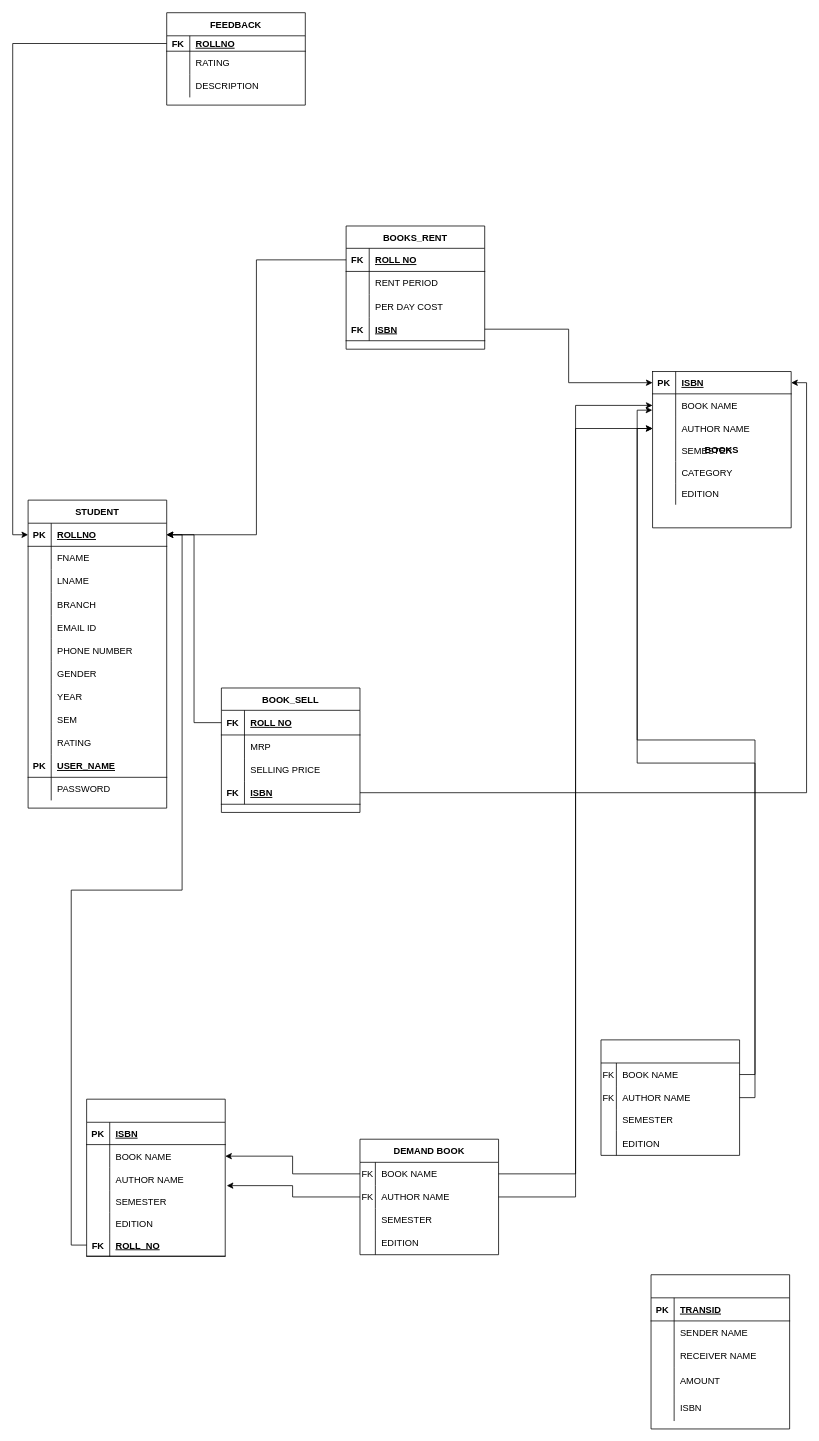
Image size: 819x1441. Some labels were removed from this diagram. Each missing label, with the box of its shape:
BUY_BOOK: (600, 1039, 740, 1155)
EXCHANGE BOOK: (86, 1098, 225, 1256)
PAYMENT: (650, 1274, 790, 1429)
